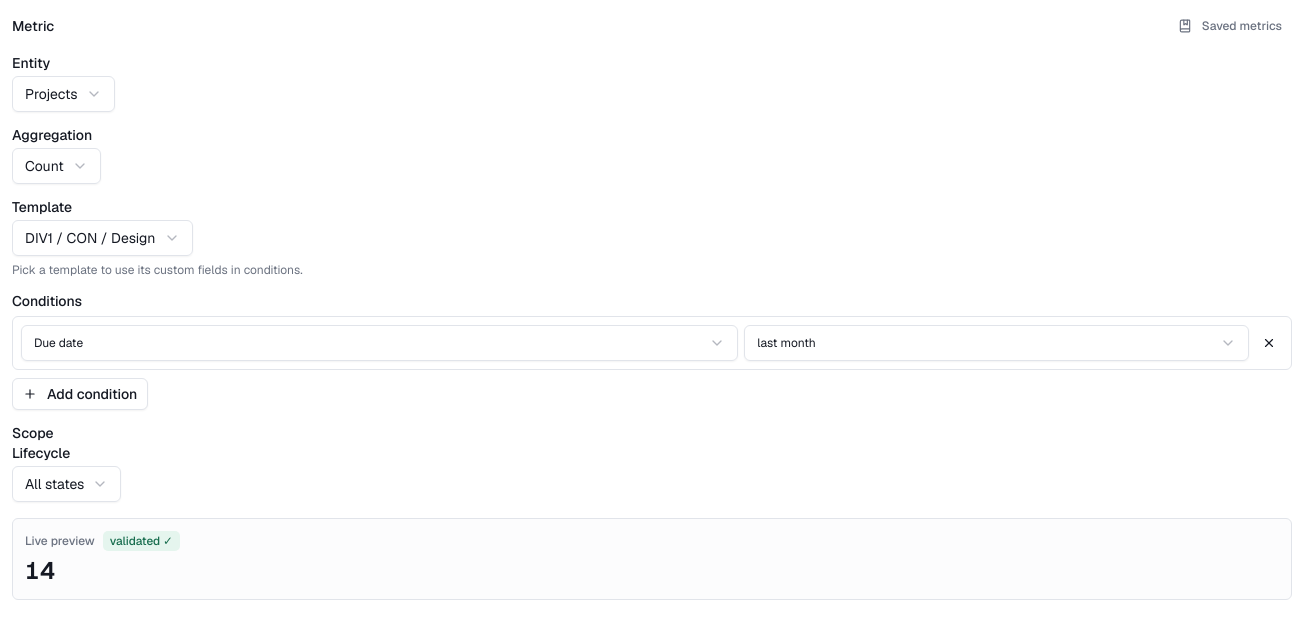
Test: MetricBuilder › offers last_month / on_or_before_today date ops with no value input (Phase 7.18)
The image size is (1304, 617).
expect the text "last month" is shown: met, box [757, 335, 816, 351]
expect the field labelled "Days" is not shown: met
Note: Open the operator dropdown to confirm both new presets are offered.
Click the dropdown named "condition 1 operator". click: {"x": 786, "y": 343}
box: [744, 325, 1249, 361]
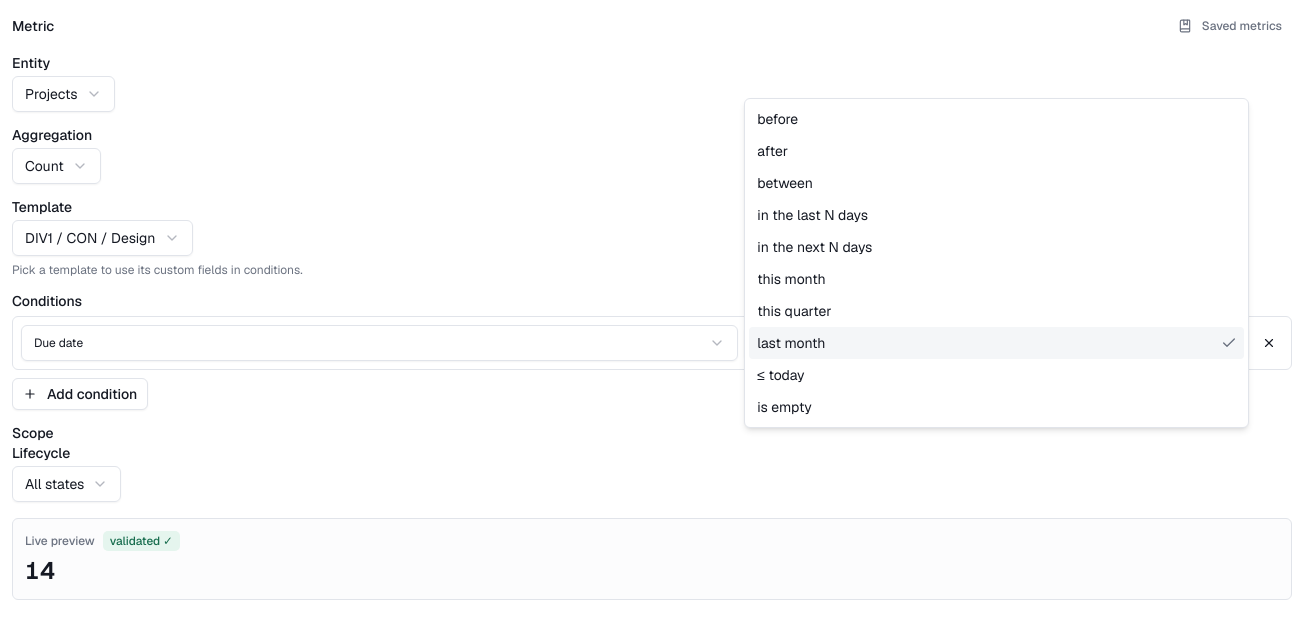
expect the option "≤ today" is shown: met, box [757, 366, 805, 384]
expect the option "last month" is shown: met, box [749, 327, 1244, 359]
